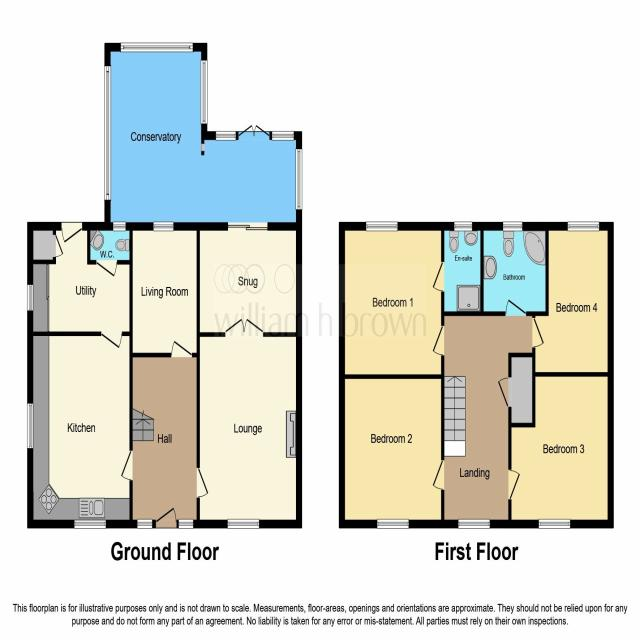DOOR: (60, 221, 83, 244), (155, 506, 177, 529), (431, 260, 445, 293), (170, 339, 193, 358), (197, 466, 210, 499), (432, 459, 445, 491), (120, 449, 133, 481), (100, 331, 123, 349), (508, 469, 521, 500), (532, 317, 545, 348), (431, 325, 444, 356), (505, 298, 527, 316), (96, 260, 118, 278)
DOUBLE DOOR: (224, 317, 264, 337), (238, 124, 270, 140)
ROOM: (104, 42, 302, 231), (196, 317, 303, 529), (27, 331, 133, 529), (338, 221, 445, 379), (508, 372, 614, 529), (338, 374, 445, 529), (532, 221, 614, 377), (196, 221, 303, 338), (129, 221, 200, 358)
SLIDING DOOR: (227, 221, 268, 231)
WINDOW: (104, 65, 112, 202), (120, 42, 194, 53), (200, 59, 208, 125), (295, 148, 303, 210), (227, 518, 260, 530), (538, 518, 571, 529), (567, 221, 600, 232), (365, 221, 398, 232), (458, 518, 491, 529), (377, 518, 409, 529), (27, 402, 34, 449), (74, 520, 106, 529), (215, 130, 237, 141), (153, 221, 174, 232), (503, 221, 523, 232), (272, 131, 294, 141), (454, 221, 473, 232), (27, 284, 34, 312), (178, 518, 194, 529), (137, 518, 153, 529), (113, 221, 126, 232), (201, 143, 205, 152)
